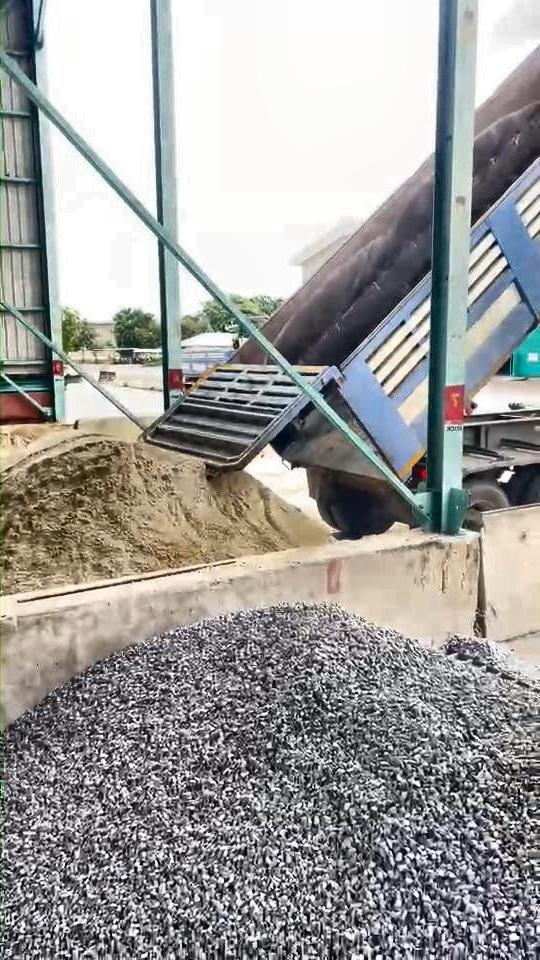gravel: (5, 605, 540, 959), (443, 635, 540, 688)
sand: (2, 428, 329, 593)
